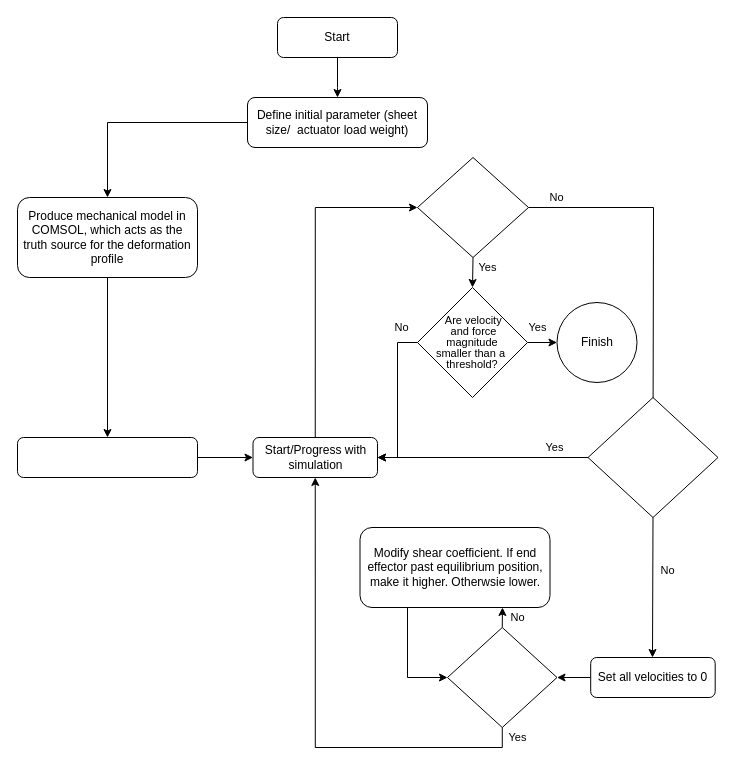
The diagram is 736 pixels wide and 773 high, and some of its shapes have lost their labels. Each missing label, with the centre of its shape:
Choose initial coefficients for the lumped parameter model.: (107,457)
Desired position reached?: (472,207)
Is e lastic force towards equilibrium position?: (501,677)
Is the end effector moving toward reference equilibrium point?: (652,457)
